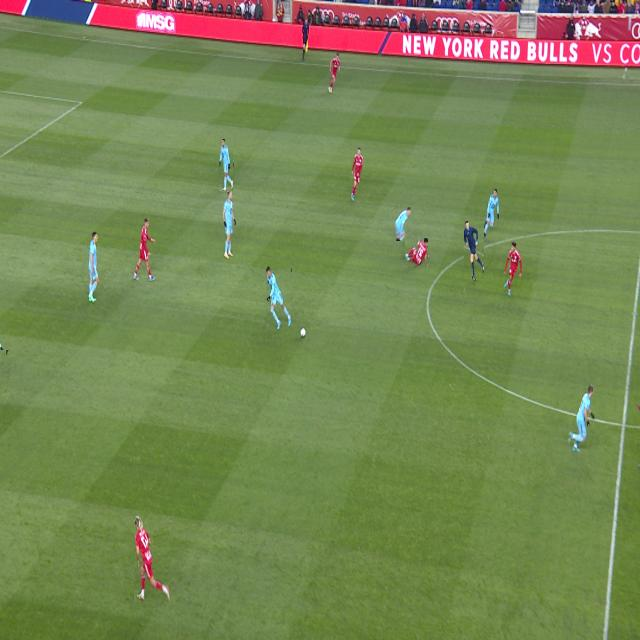football: (300, 327, 306, 338)
player: (135, 517, 170, 602), (568, 385, 594, 452), (267, 266, 291, 329), (133, 218, 155, 281), (504, 242, 522, 296), (223, 190, 236, 258), (484, 189, 499, 237), (0, 350, 10, 420), (220, 139, 233, 191), (351, 148, 363, 201), (406, 239, 428, 266), (395, 207, 411, 241), (328, 53, 340, 93), (637, 404, 640, 412), (639, 464, 639, 468)
referee: (464, 222, 484, 279)
